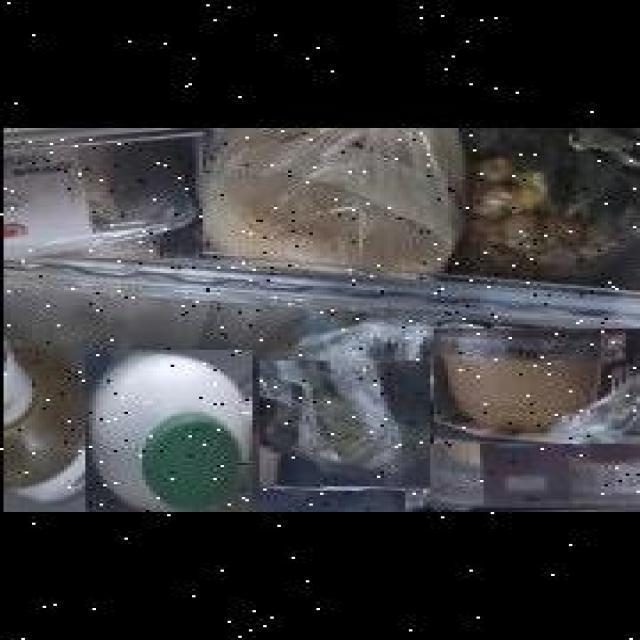green_beans: (256, 361, 427, 488)
humus: (430, 326, 640, 442), (402, 443, 640, 512)
milk: (82, 348, 249, 512)
pineapple: (451, 127, 640, 277)
turkey: (0, 128, 199, 258)
